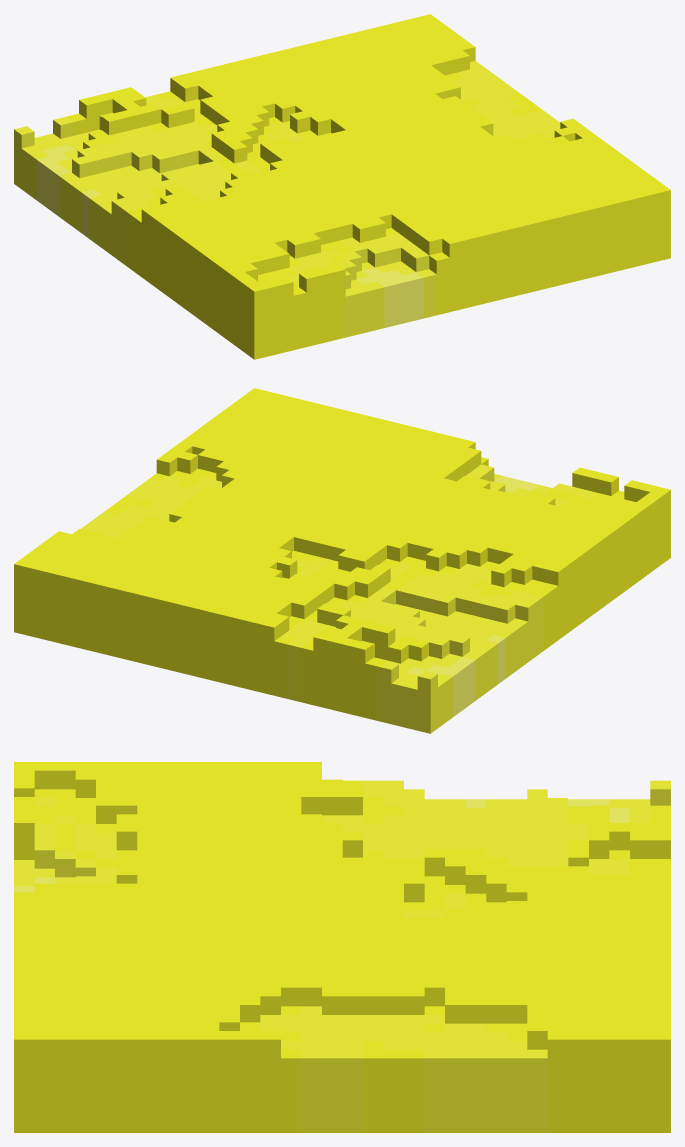
Rendered from Destert Map-1.obj.
3 views of the same model, one above another, from view 1: azimuth 30°, elevation 25°; view 2: azimuth 150°, elevation 25°; view 3: azimuth 270°, elevation 25° (orthographic). The views are drawn at different scales.
Bounding box in the file's own units: 3.2 × 0.5 × 3.2.
Materials: 1 (1 with a texture image).
